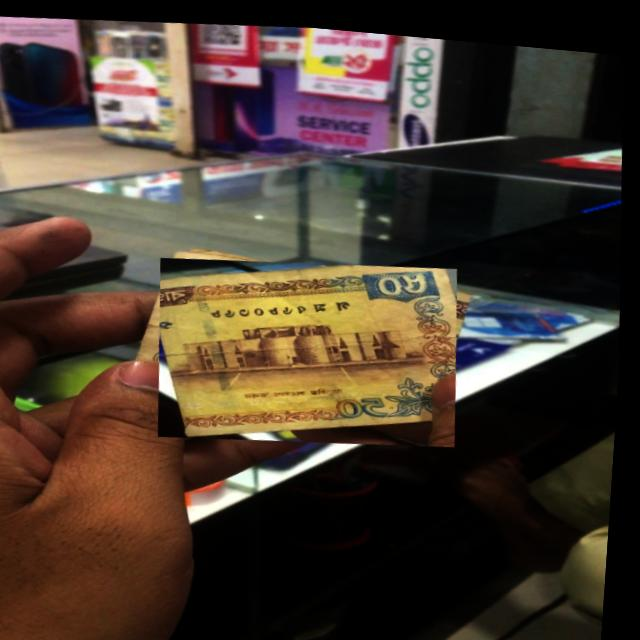Taka: (154, 239, 470, 454)
